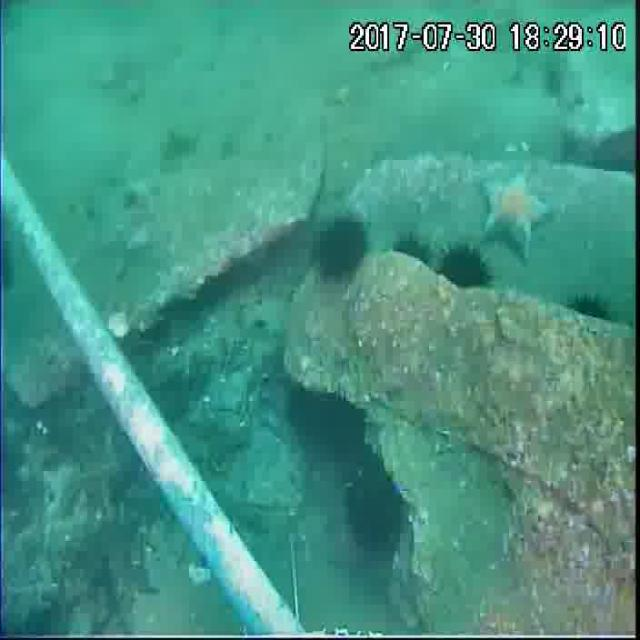echinus: (292, 380, 370, 466), (345, 457, 400, 551), (313, 210, 369, 279), (437, 238, 500, 293), (389, 231, 434, 280), (560, 289, 612, 327)
starfish: (479, 167, 555, 261)
